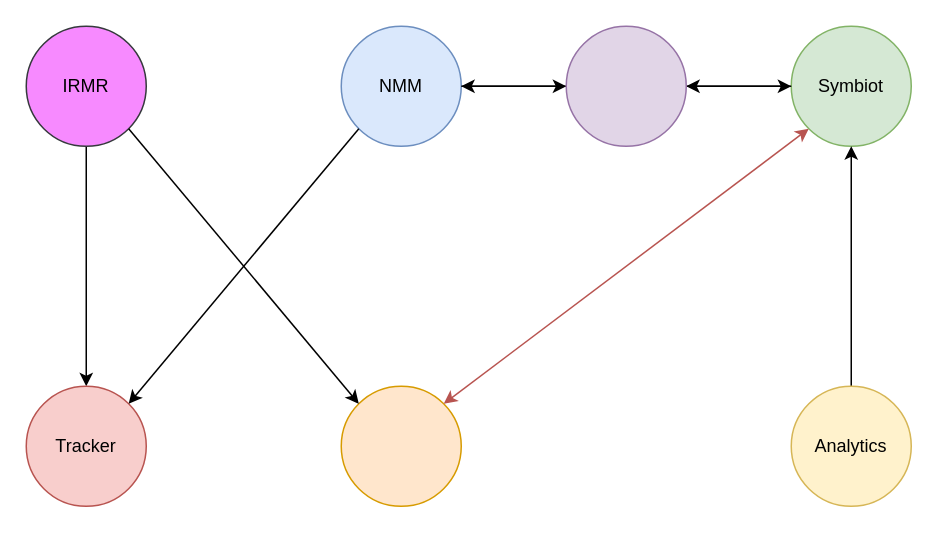
Image size: 938x533. Some labels were removed from this diagram. The shapes that lost their labels are listed below. From the top down, each one's centre as x and y in pixels, then its label:
At point (625, 85): "Orchestrator".
At point (400, 445): "Ingress".
